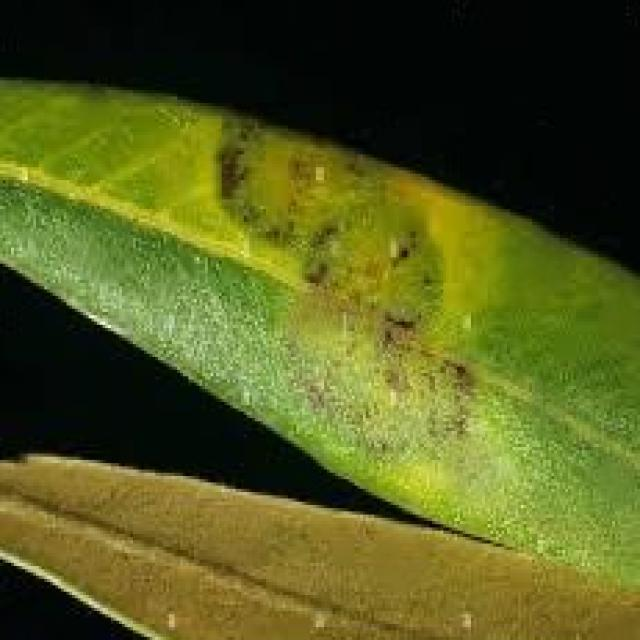Peacock Eye: (0, 80, 637, 582)
